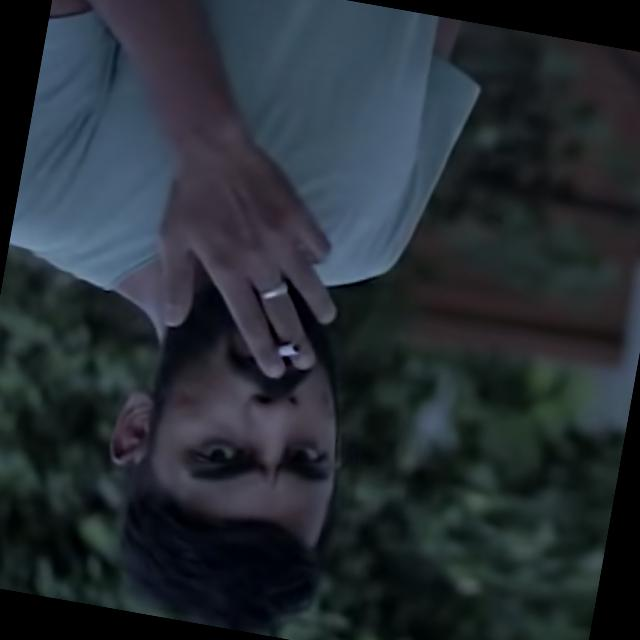cigarette: (278, 330, 303, 367)
